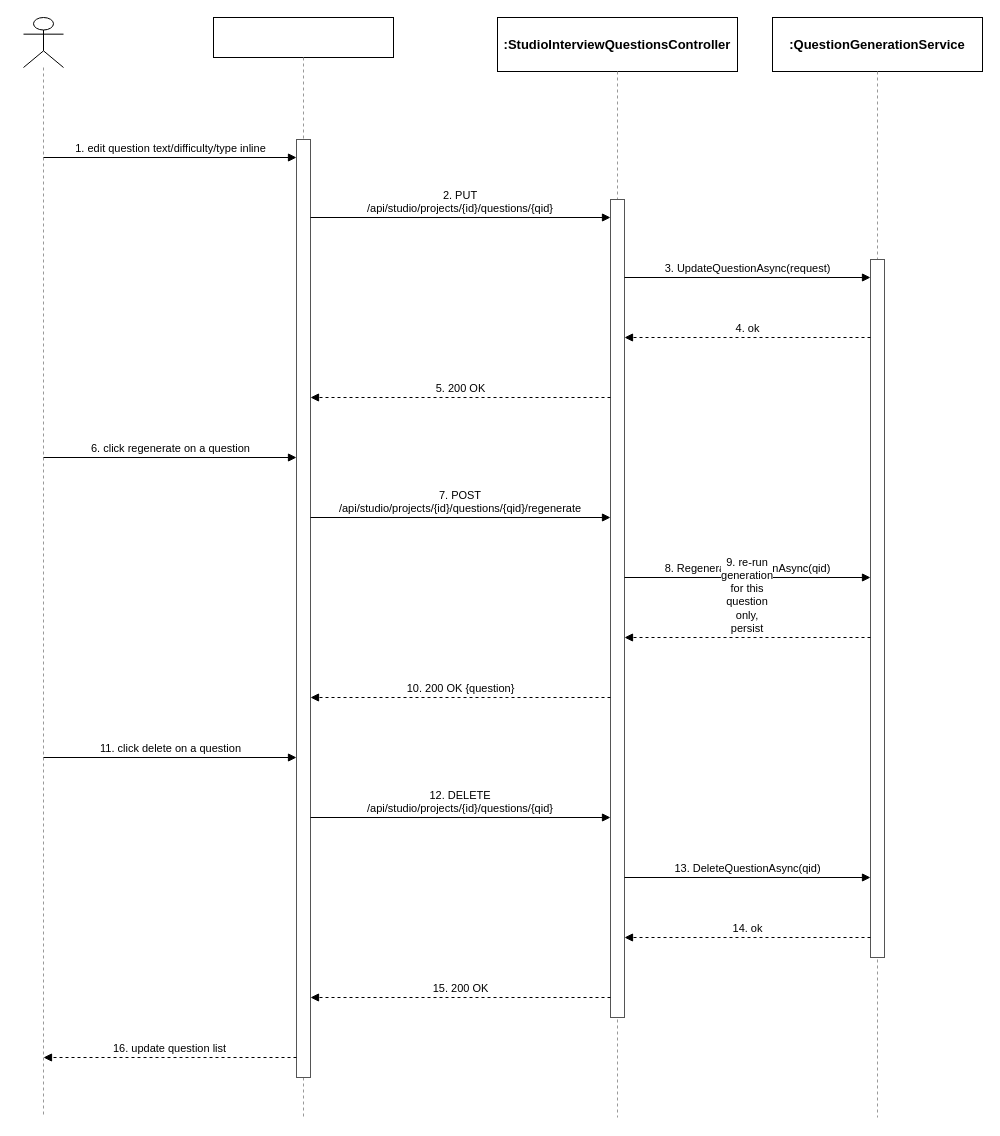
Some shapes in this 1000 by 1136 pixel diagram are drawn without their labels. Each missing label, with the box of its shape:
:QuestionsTab: (212, 16, 394, 58)
HR Manager: (22, 16, 64, 68)
